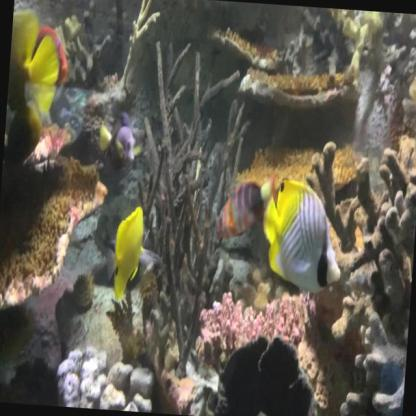fish: (258, 177, 348, 294), (6, 9, 61, 115), (110, 204, 144, 306), (215, 178, 267, 242), (96, 110, 140, 169), (30, 24, 70, 86)
